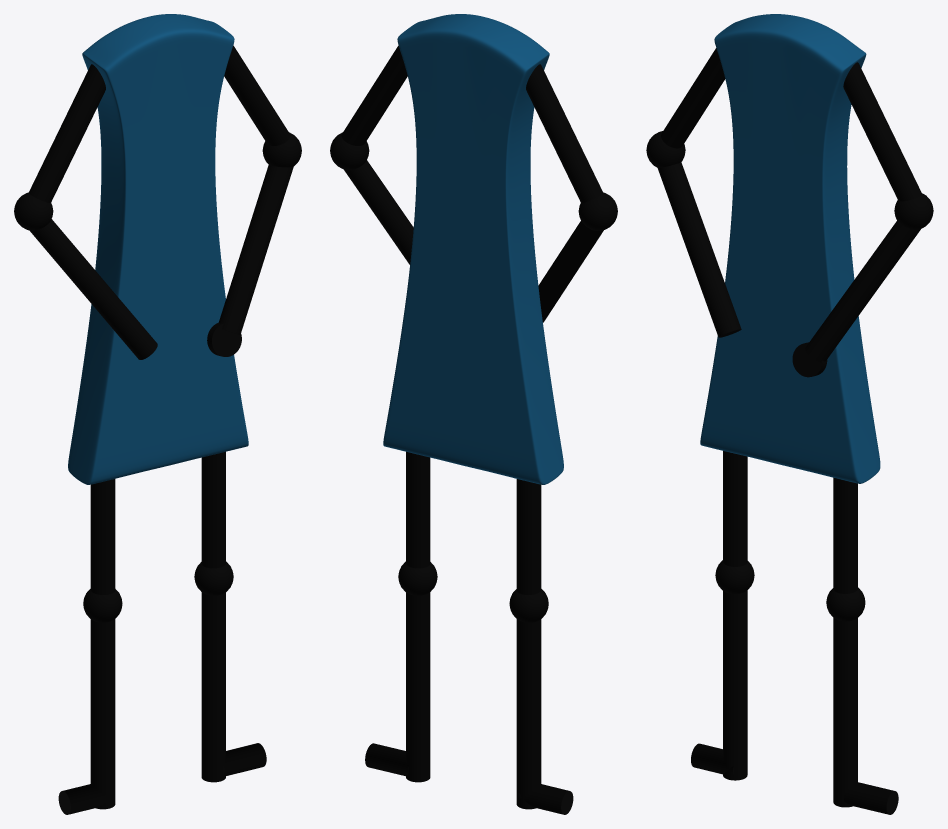
The picture shows the model from 3 angles, left to right: view 1: azimuth 30°, elevation 25°; view 2: azimuth 150°, elevation 25°; view 3: azimuth 330°, elevation 25°; orthographic projection.
Visible parts, largest first — view 1: MaleBody, leftForeLeg, rightForeLeg, LeftForeArm, RightForeArm, RightUpperArm, rightUpperLeg, LeftUpperLeg, LeftUpperArm, rightUpperArmSphere, rightFoot, leftFoot (+4 smaller); view 2: MaleBody, leftForeLeg, rightForeLeg, RightUpperArm, rightUpperLeg, LeftUpperLeg, LeftUpperArm, LeftForeArm, RightForeArm, rightUpperArmSphere, rightFoot, leftFoot (+3 smaller); view 3: MaleBody, rightForeLeg, RightForeArm, leftForeLeg, LeftForeArm, LeftUpperArm, LeftUpperLeg, rightUpperLeg, RightUpperArm, leftFoot, LeftUpperArmSphere, leftUpperLegSphere (+4 smaller).
Part boxes in pixels (x1,y1,x2,y2): MaleBody: (68, 14, 248, 484); leftForeLeg: (201, 592, 225, 782); rightForeLeg: (90, 619, 115, 809); LeftForeArm: (218, 165, 293, 335); RightForeArm: (30, 219, 157, 359); RightUpperArm: (28, 64, 105, 202); rightUpperLeg: (90, 479, 115, 594); LeftUpperLeg: (201, 451, 225, 568); LeftUpperArm: (224, 45, 290, 145); rightUpperArmSphere: (14, 192, 53, 230); rightFoot: (58, 784, 113, 814); leftFoot: (223, 743, 266, 775); MaleBody: (383, 14, 563, 484); leftForeLeg: (406, 592, 430, 782); rightForeLeg: (516, 619, 541, 809); RightUpperArm: (526, 64, 603, 202); rightUpperLeg: (516, 479, 541, 594); LeftUpperLeg: (406, 451, 430, 568); LeftUpperArm: (341, 45, 407, 145); LeftForeArm: (344, 160, 413, 264); RightForeArm: (538, 221, 603, 322); rightUpperArmSphere: (578, 192, 617, 230); rightFoot: (518, 784, 573, 814); leftFoot: (365, 743, 408, 776); MaleBody: (700, 14, 880, 483); rightForeLeg: (723, 590, 747, 780); RightForeArm: (657, 162, 741, 337); leftForeLeg: (833, 618, 857, 807); LeftForeArm: (805, 221, 920, 361); LeftUpperArm: (843, 62, 921, 201); LeftUpperLeg: (833, 477, 857, 593); rightUpperLeg: (723, 451, 747, 566); RightUpperArm: (661, 48, 725, 148); leftFoot: (844, 782, 898, 814); LeftUpperArmSphere: (894, 193, 933, 229); leftUpperLegSphere: (826, 587, 865, 621).
Bounding box in the file's own units: 133 × 345 × 35.4.
